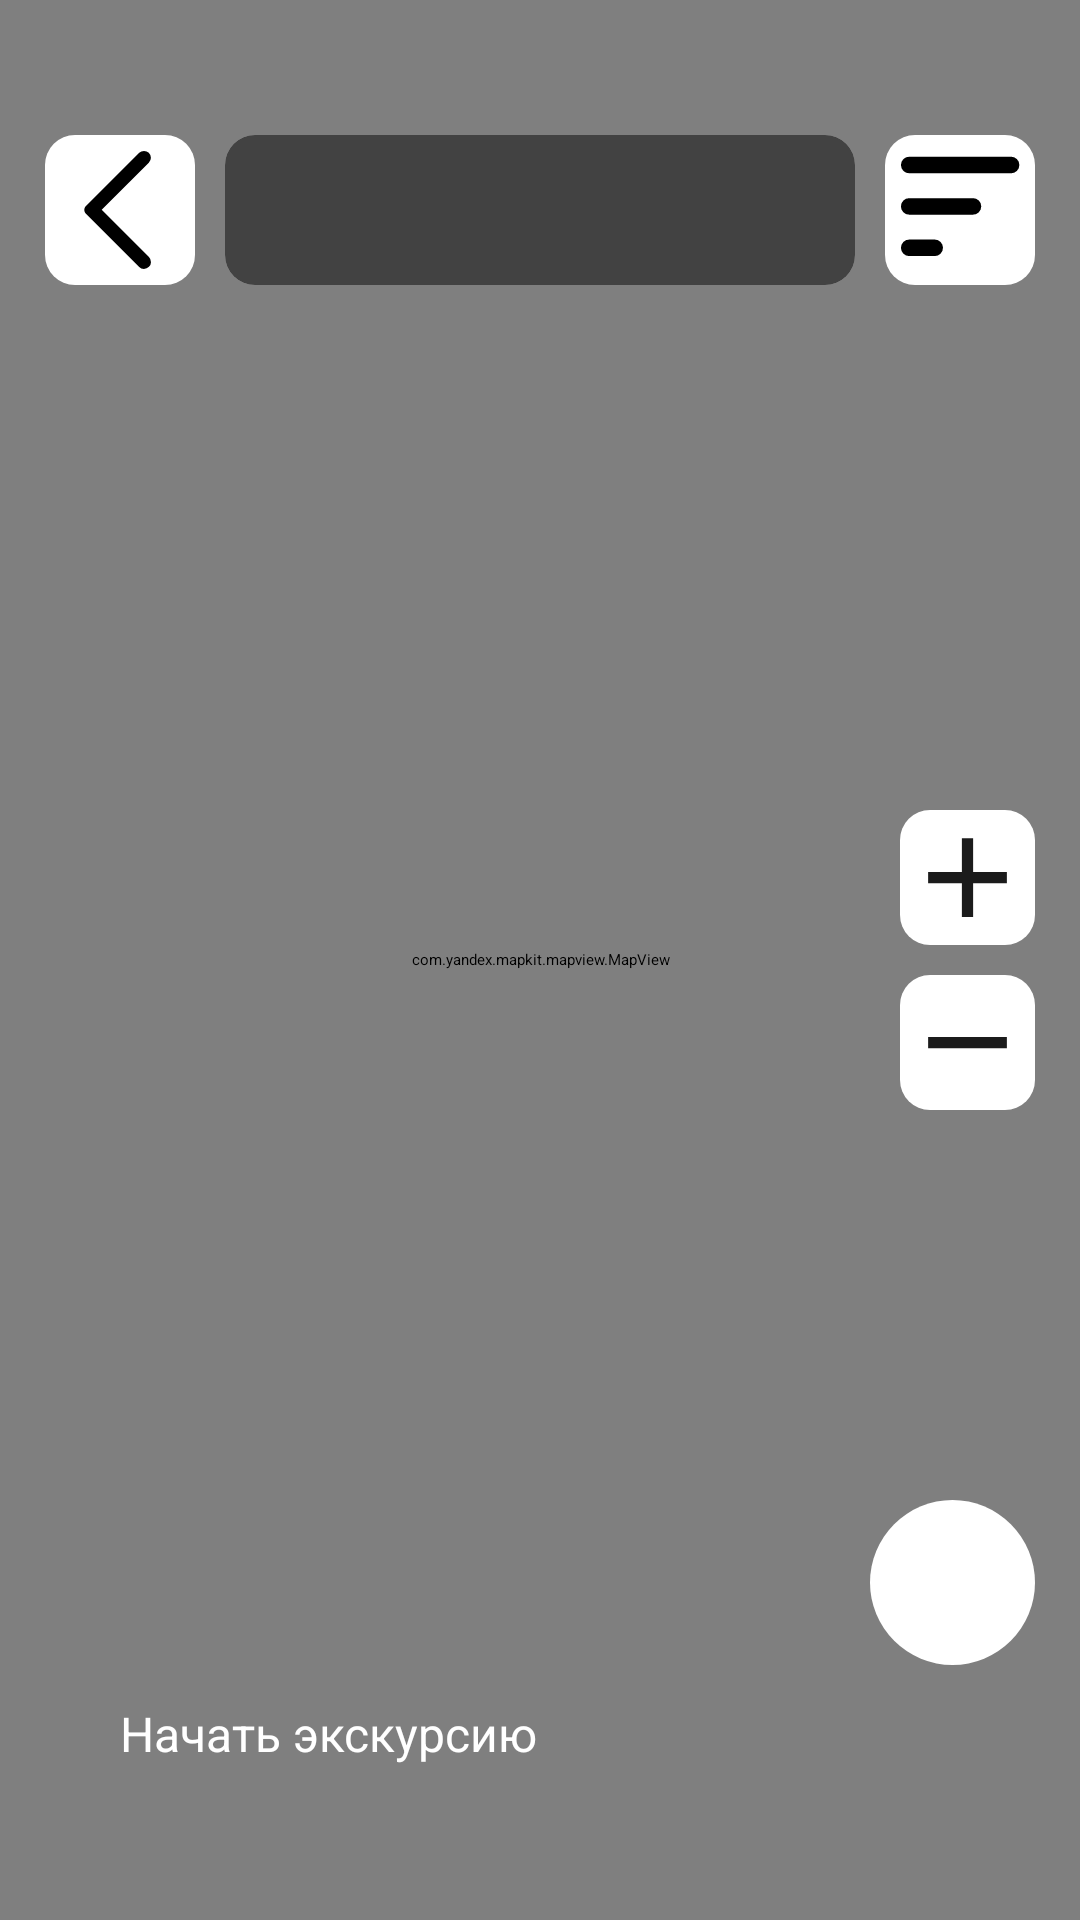

Named icons in this screenshot (1080 x 1920) and their centers, [x,y]:
Посмотреть список мест: [960,210]
Увеличить карту: [967,877]
Уменьшить карту: [967,1042]
